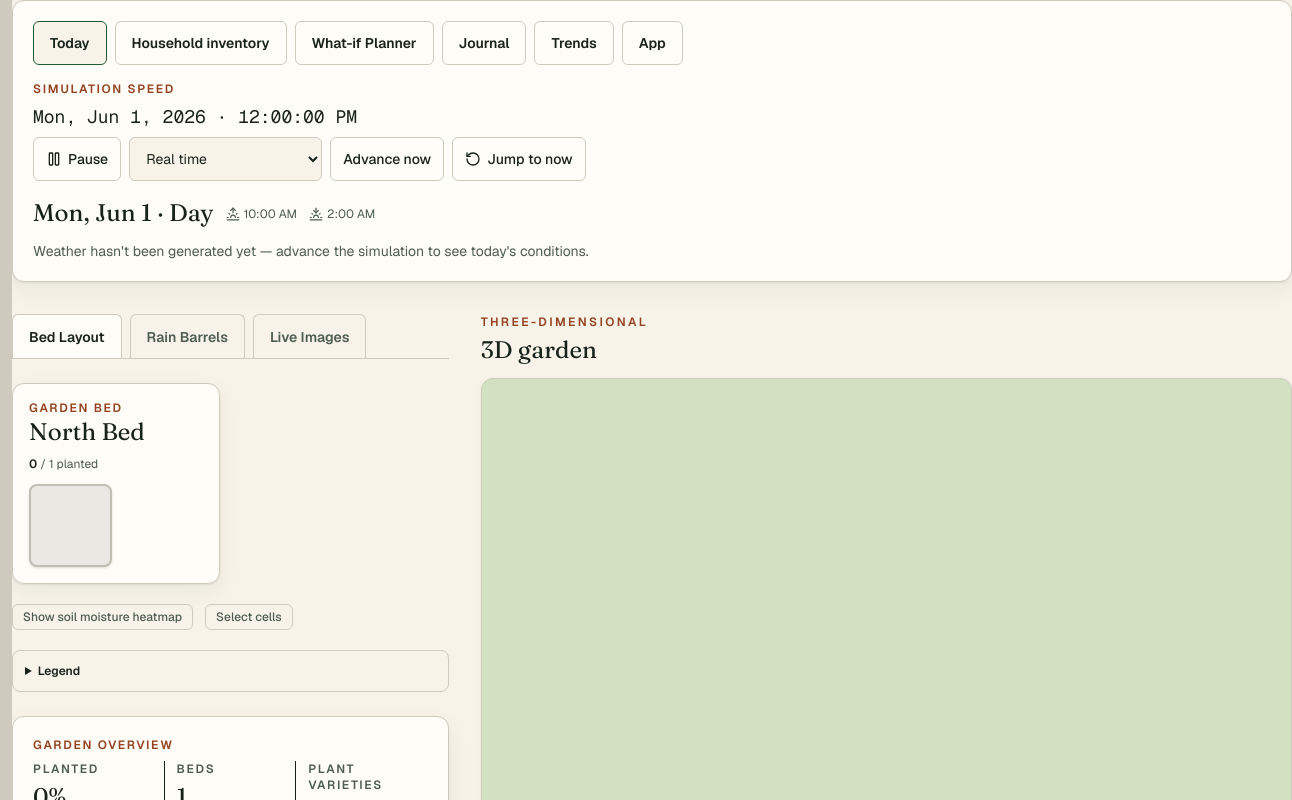
Test: SPEC-PLANTUI-001 › T-SPEC-PLANTUI-001-AC-AC_6: assigning a plant is blocked with a clear message when the plant has no seed stock left
The width and height of the screenshot is (1292, 800).
Click the button named "column 0, row 0" at coordinates (71, 526), box [29, 484, 112, 567]
(page scrolled)
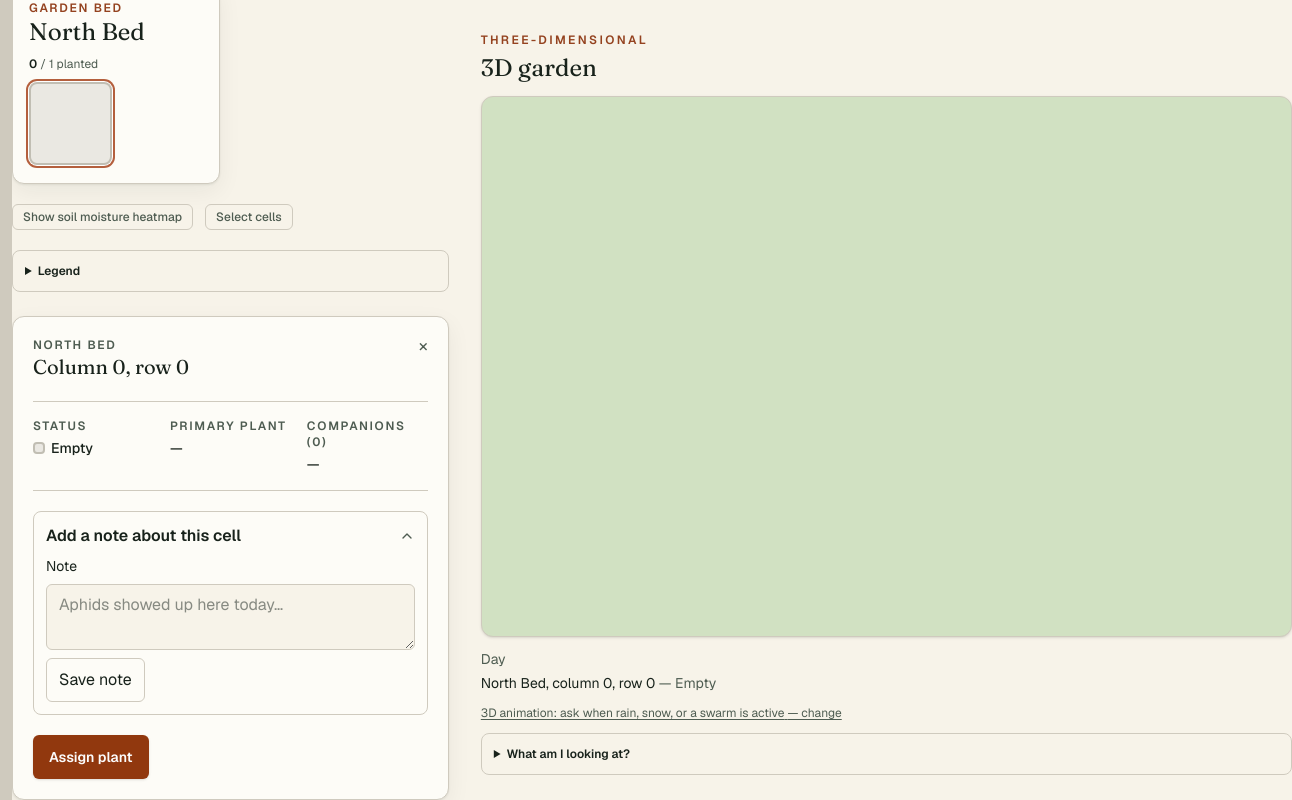
Click the button "Assign plant" at coordinates (91, 757), box [33, 735, 149, 779]
(page scrolled)
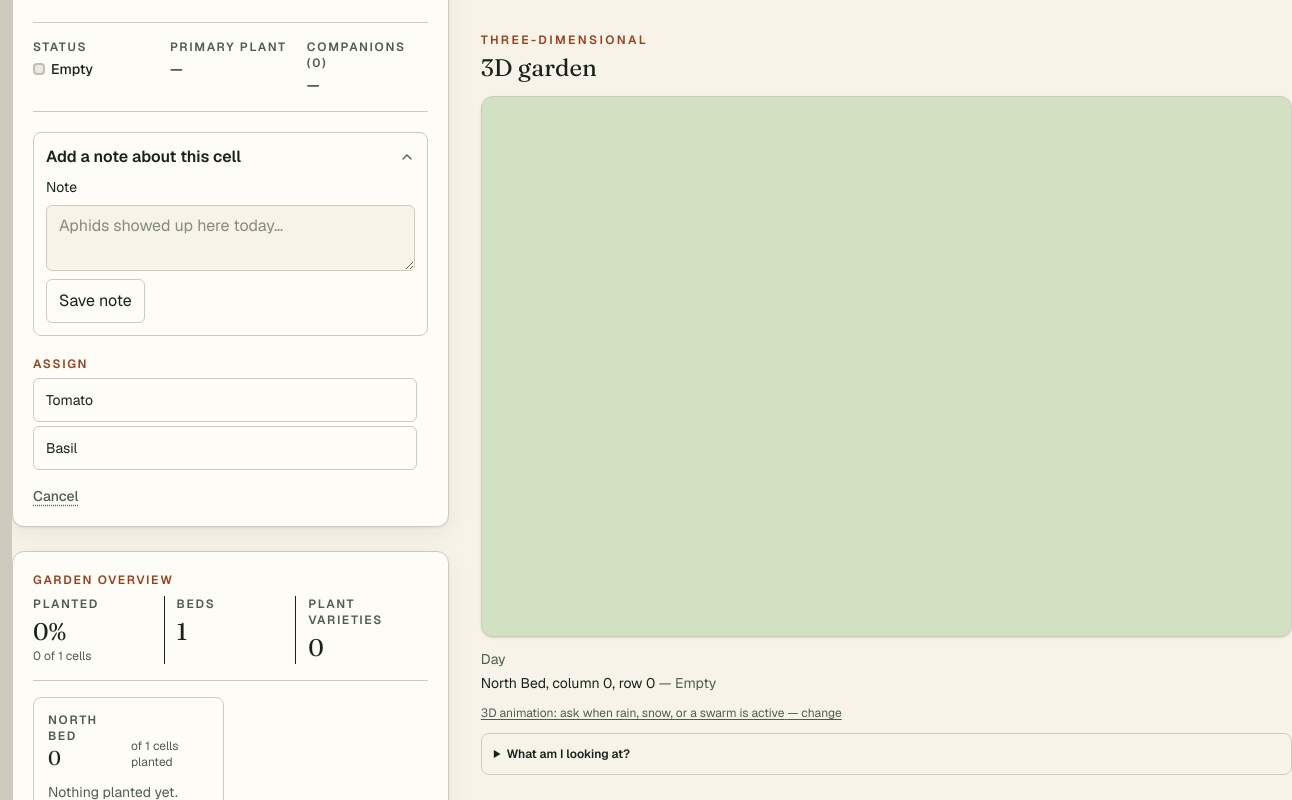
Click the button "Tomato" at coordinates (69, 400), box [33, 378, 417, 422]
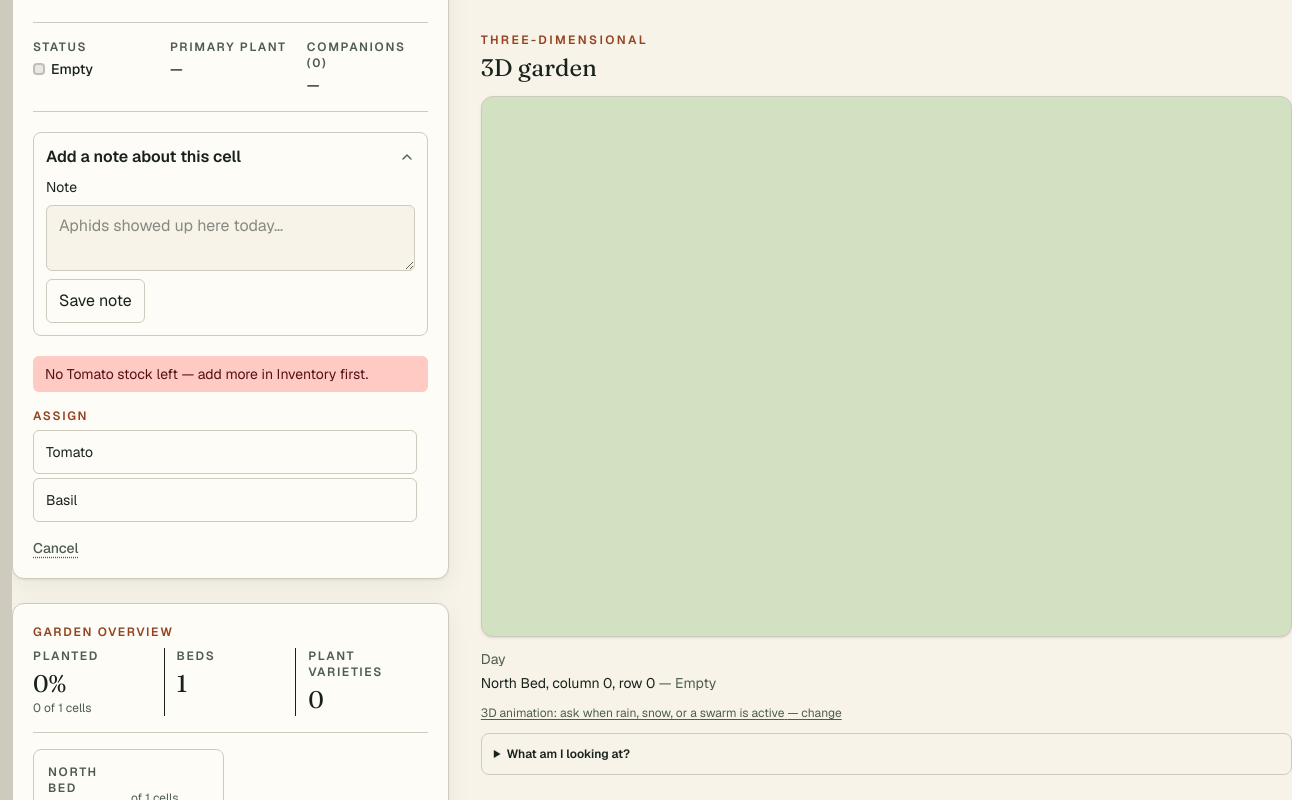
expect the message shows "No Tomato stock left": met, box [45, 365, 368, 383]
